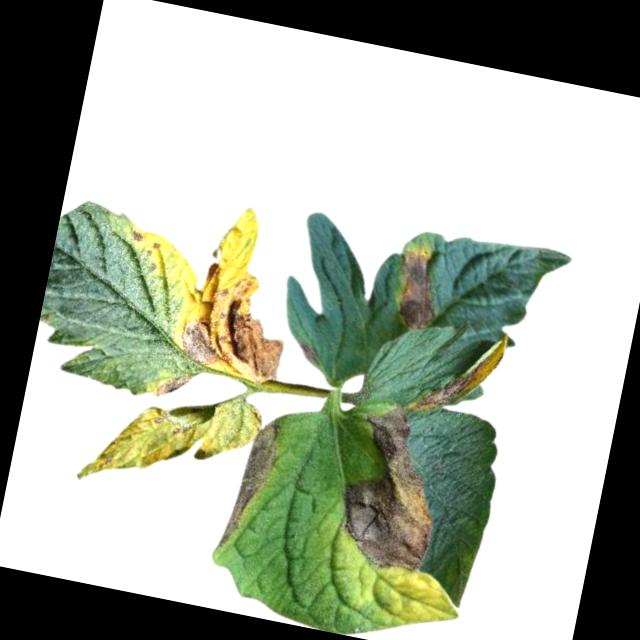Early_blight: (327, 396, 454, 578), (173, 253, 298, 383), (408, 318, 513, 423), (213, 414, 281, 552), (385, 238, 446, 331), (150, 366, 193, 405), (291, 337, 320, 364), (125, 224, 145, 247)
